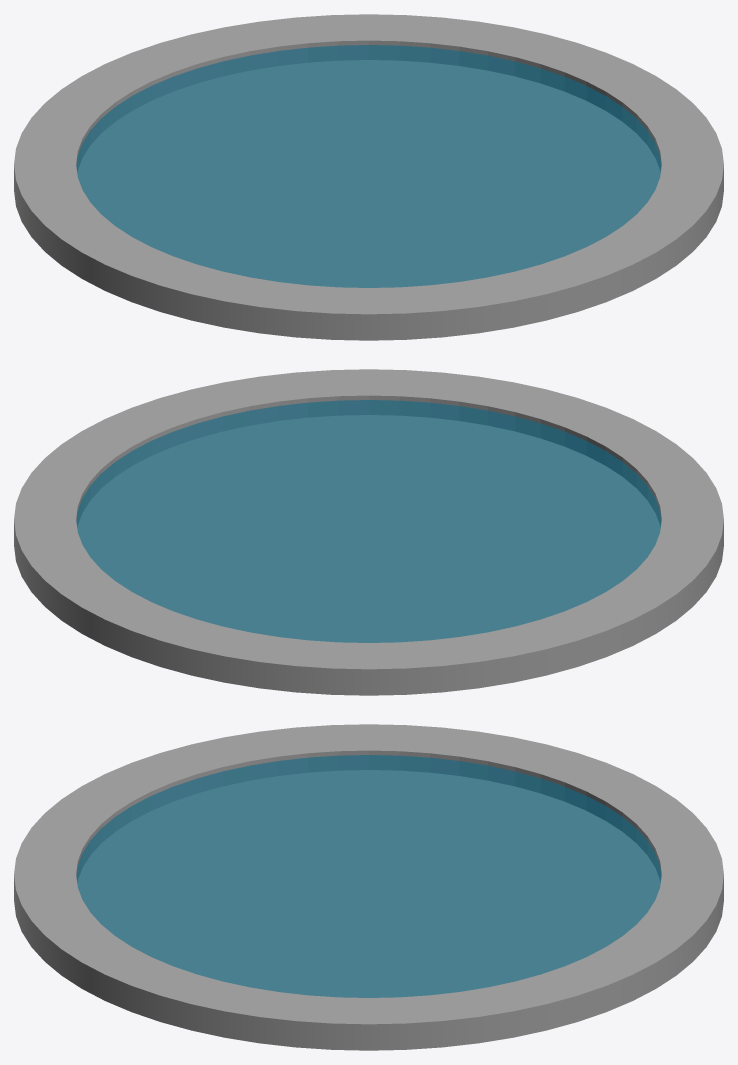
Rendered from SM_Boardgame_M.fbx.
The picture shows the model from 3 angles, top to bottom: view 1: azimuth 30°, elevation 25°; view 2: azimuth 150°, elevation 25°; view 3: azimuth 270°, elevation 25°; orthographic projection.
Visible parts, largest first — view 1: SM_BgBorder_M, SM_Bg_Water; view 2: SM_BgBorder_M, SM_Bg_Water; view 3: SM_BgBorder_M, SM_Bg_Water.
Boxes of the visible parts, left/top/right/bottom form: SM_BgBorder_M: left=14, top=14, right=723, bottom=340; SM_Bg_Water: left=76, top=45, right=661, bottom=287; SM_BgBorder_M: left=14, top=369, right=723, bottom=695; SM_Bg_Water: left=76, top=400, right=661, bottom=642; SM_BgBorder_M: left=14, top=724, right=723, bottom=1050; SM_Bg_Water: left=76, top=755, right=661, bottom=997.
Size of the model in its own units: 100 by 4.1 by 100.
